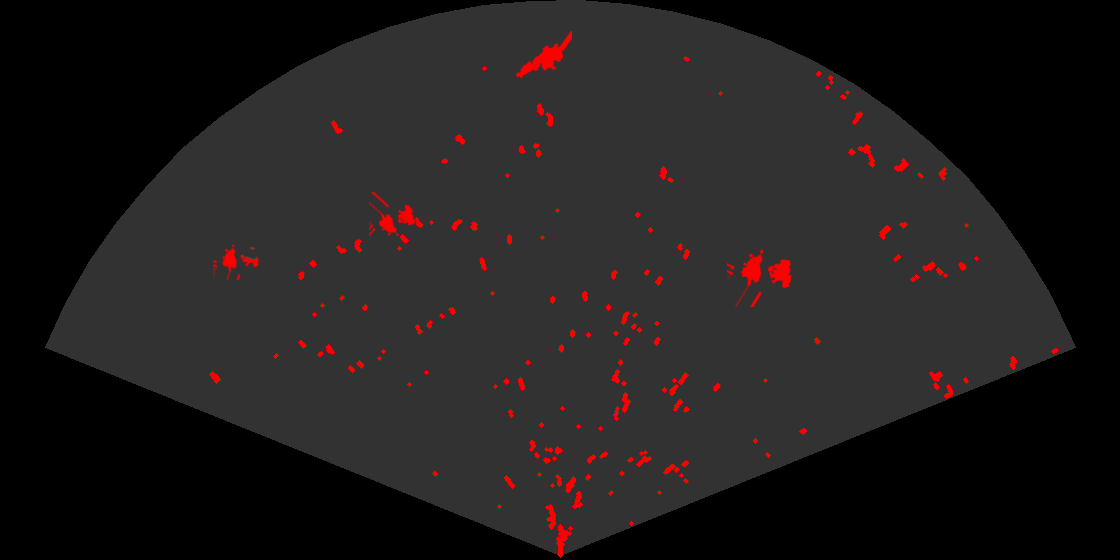cage: (727, 248, 793, 307), (369, 192, 417, 238), (213, 243, 261, 280)
frogman: (514, 31, 572, 80)
